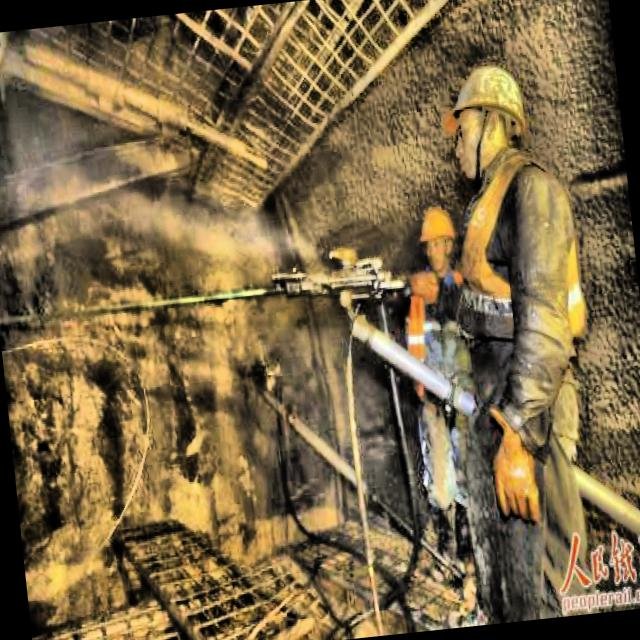helmet: (439, 59, 544, 180), (414, 202, 458, 274)
